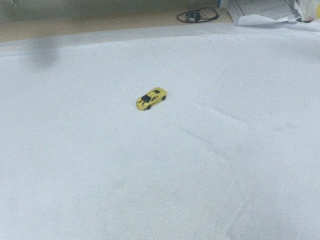toy_car: (137, 87, 168, 111)
